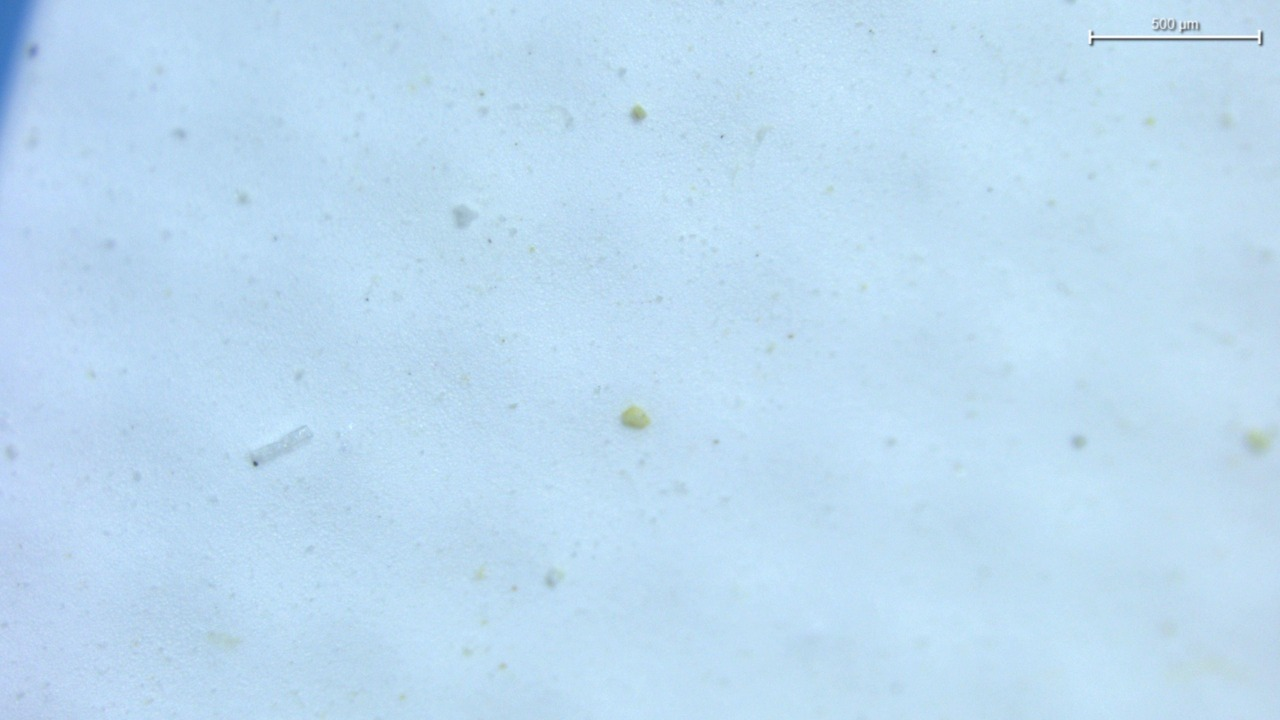microplastic_fragment: (451, 204, 478, 228)
